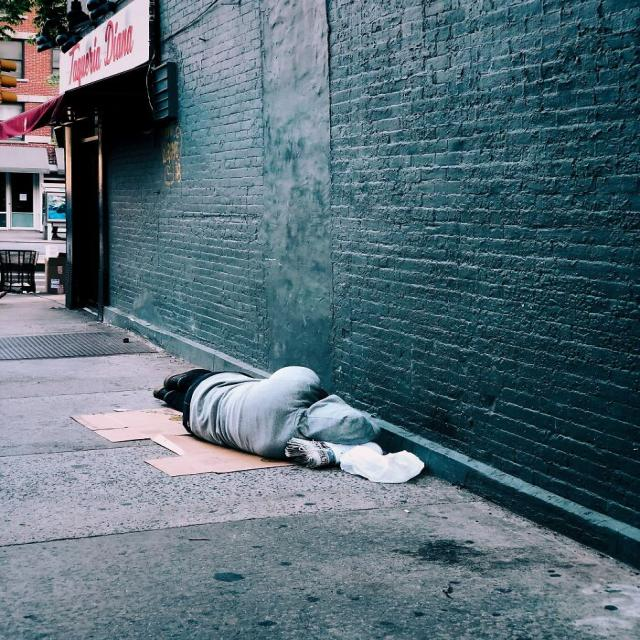loitering: (134, 342, 449, 488)
